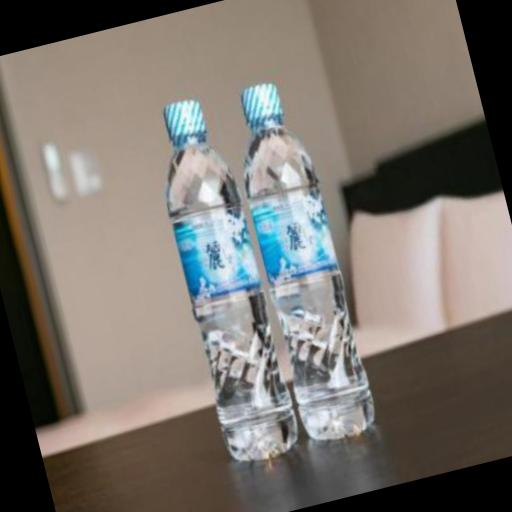Coca: (134, 85, 308, 474), (213, 64, 385, 454)
